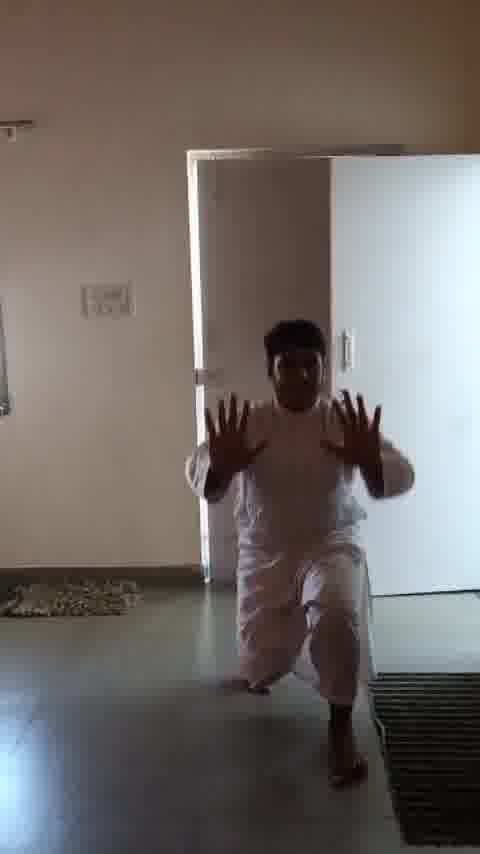duck: (182, 305, 415, 808)
